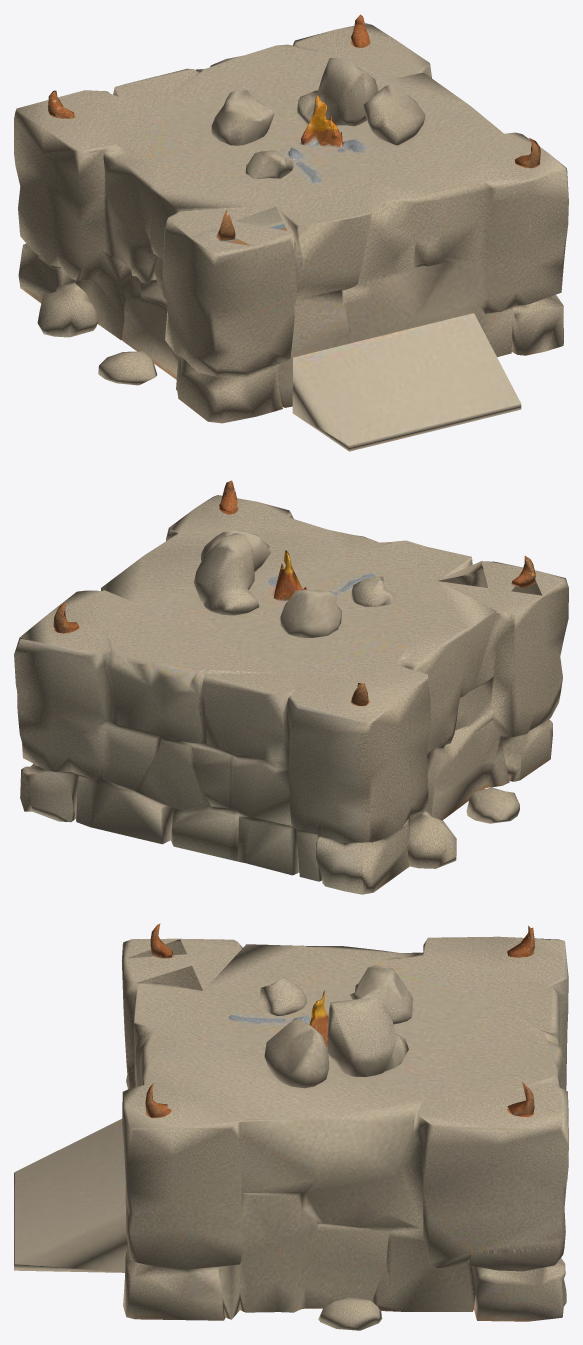
Rendered from altar.glb.
3 renders of one model, top to bottom at view 1: azimuth 30°, elevation 25°; view 2: azimuth 150°, elevation 25°; view 3: azimuth 270°, elevation 25°, orthographic. The views are drawn at different scales.
Size of the model in its own units: 0.8823 by 0.4951 by 0.9551.
Materials: 1 (1 with a texture image).
